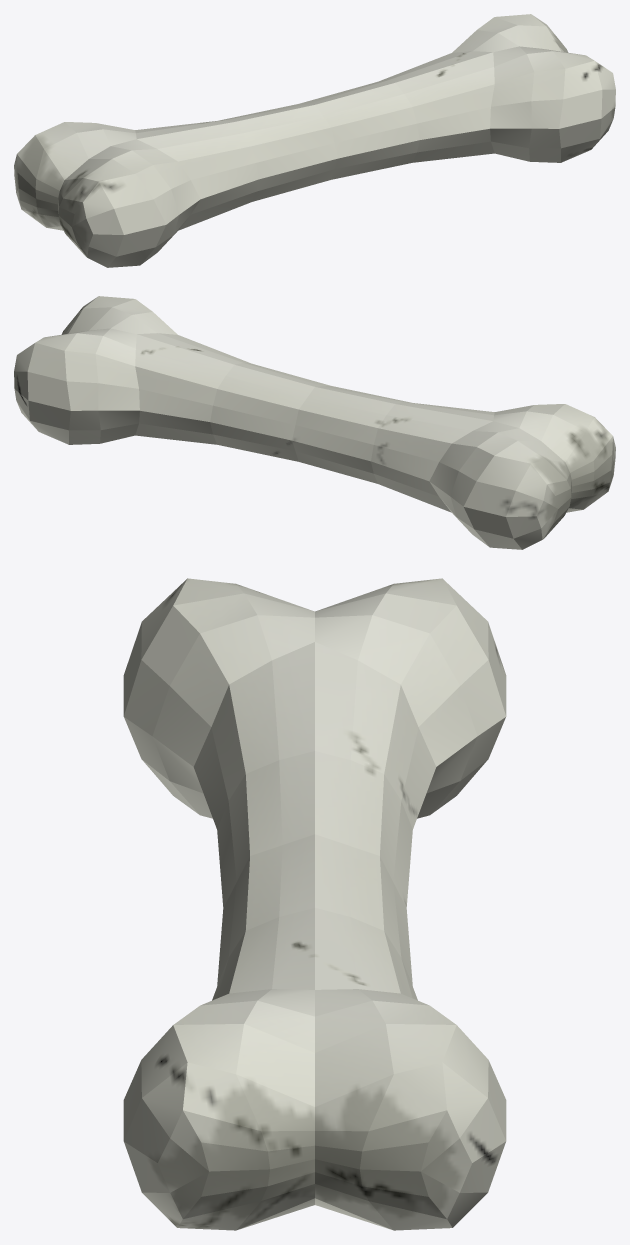
The model's file is BoneV1_20220505.obj.
3 views of the same model, one above another, from view 1: azimuth 30°, elevation 25°; view 2: azimuth 150°, elevation 25°; view 3: azimuth 270°, elevation 25° (orthographic). The views are drawn at different scales.
Parts seen in each view (by area): view 1: pCylinder1; view 2: pCylinder1; view 3: pCylinder1.
Part boxes in pixels (x1,y1,x2,y2): pCylinder1: (14,14,615,267); pCylinder1: (14,296,615,549); pCylinder1: (123,578,506,1230).
Bounding box in the file's own units: 1.12 × 0.2009 × 0.3448.
